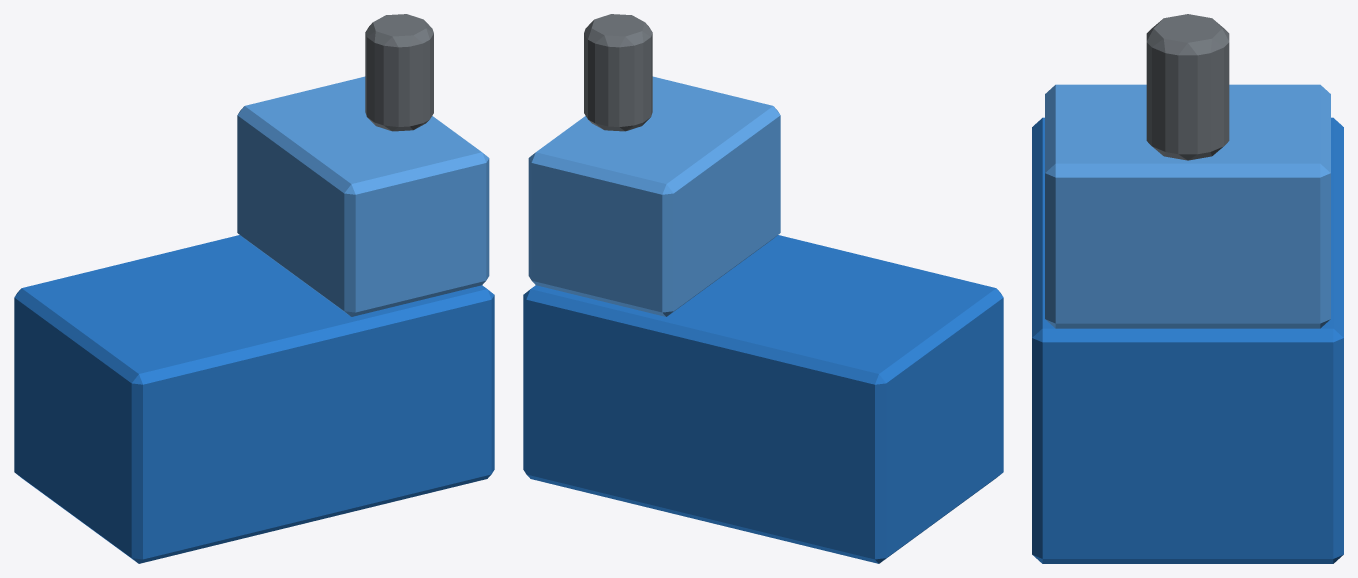
The model's file is train_cart.glb.
3 views of the same model, side by side, from view 1: azimuth 30°, elevation 25°; view 2: azimuth 150°, elevation 25°; view 3: azimuth 270°, elevation 25° (orthographic). The views are drawn at different scales.
Visible parts, largest first — view 1: train_cart; view 2: train_cart; view 3: train_cart.
Part boxes in pixels (box(x1,y1,x2,y2)): train_cart: box(14, 14, 494, 563); train_cart: box(523, 14, 1003, 563); train_cart: box(1032, 14, 1343, 563).
Bounding box in the file's own units: 0.4 × 0.44 × 0.24.
